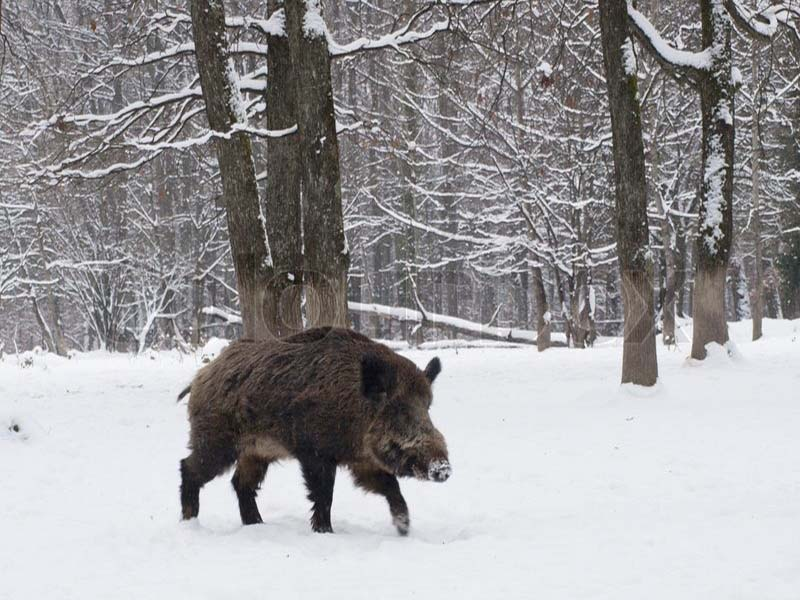cinghiale: (181, 333, 451, 537)
